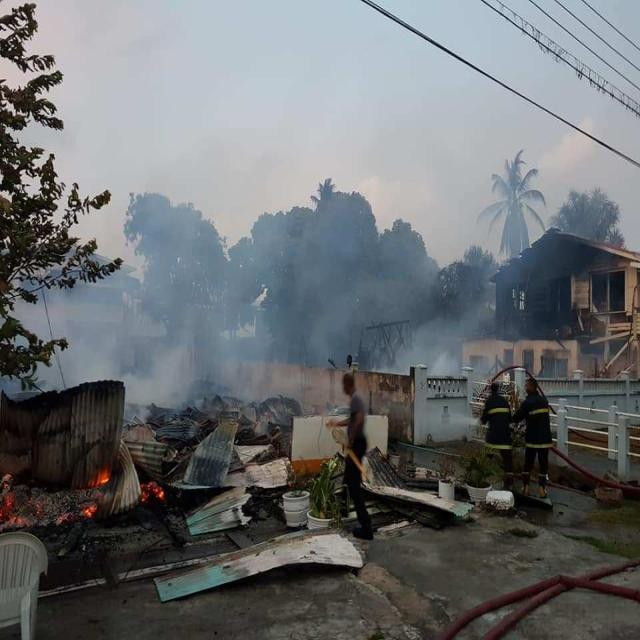smoke: (65, 285, 274, 391), (309, 244, 476, 370)
